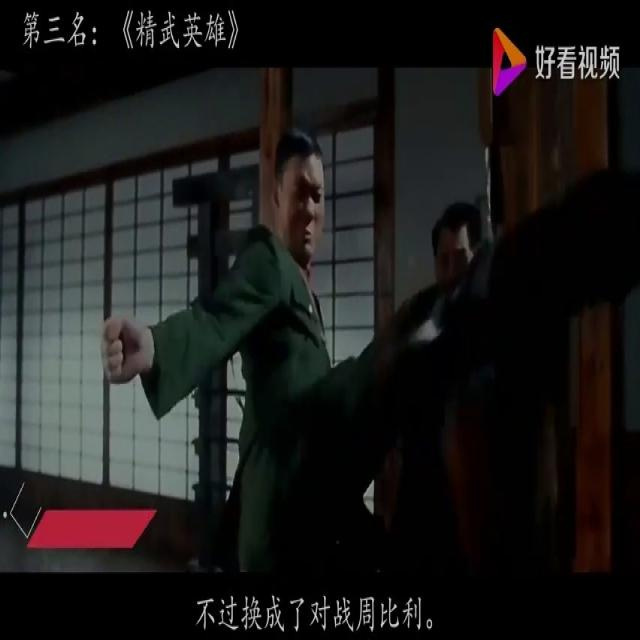fight: (80, 136, 484, 597)
